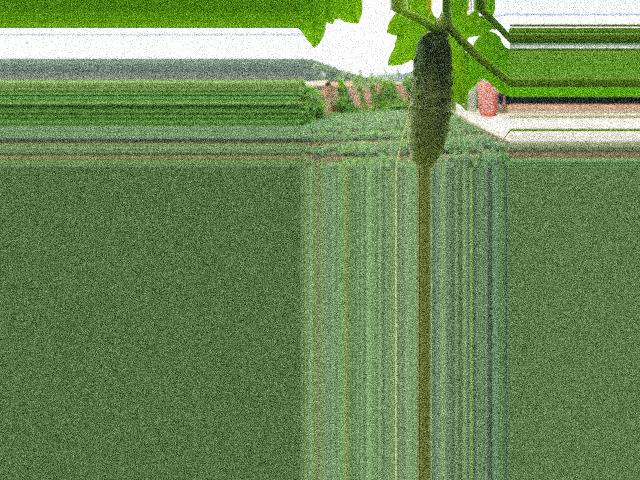cucumber: (408, 32, 452, 169)
